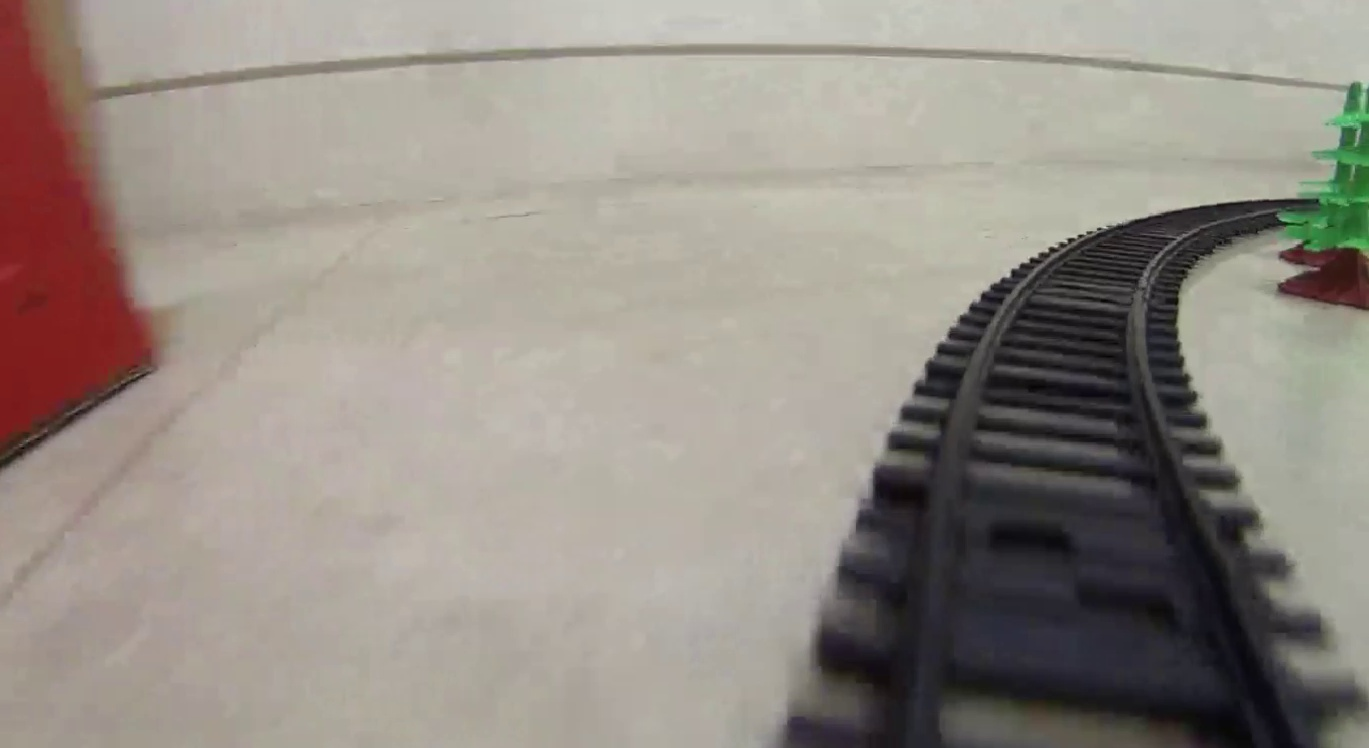tree: (1283, 83, 1369, 299)
